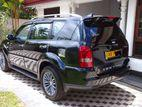car: (0, 14, 131, 100)
